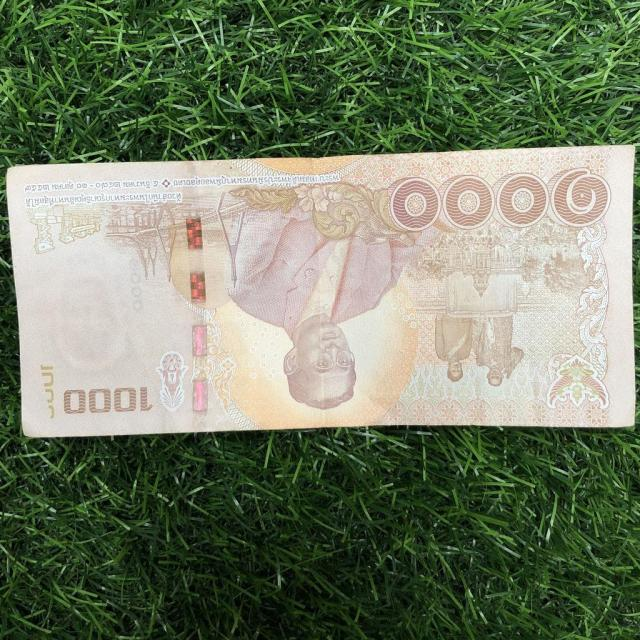THAI1000: (6, 145, 638, 441)
